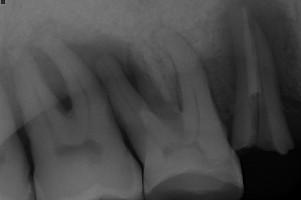Dental Caries: (198, 0, 301, 122), (66, 34, 171, 120), (31, 48, 72, 110), (0, 46, 25, 133)
